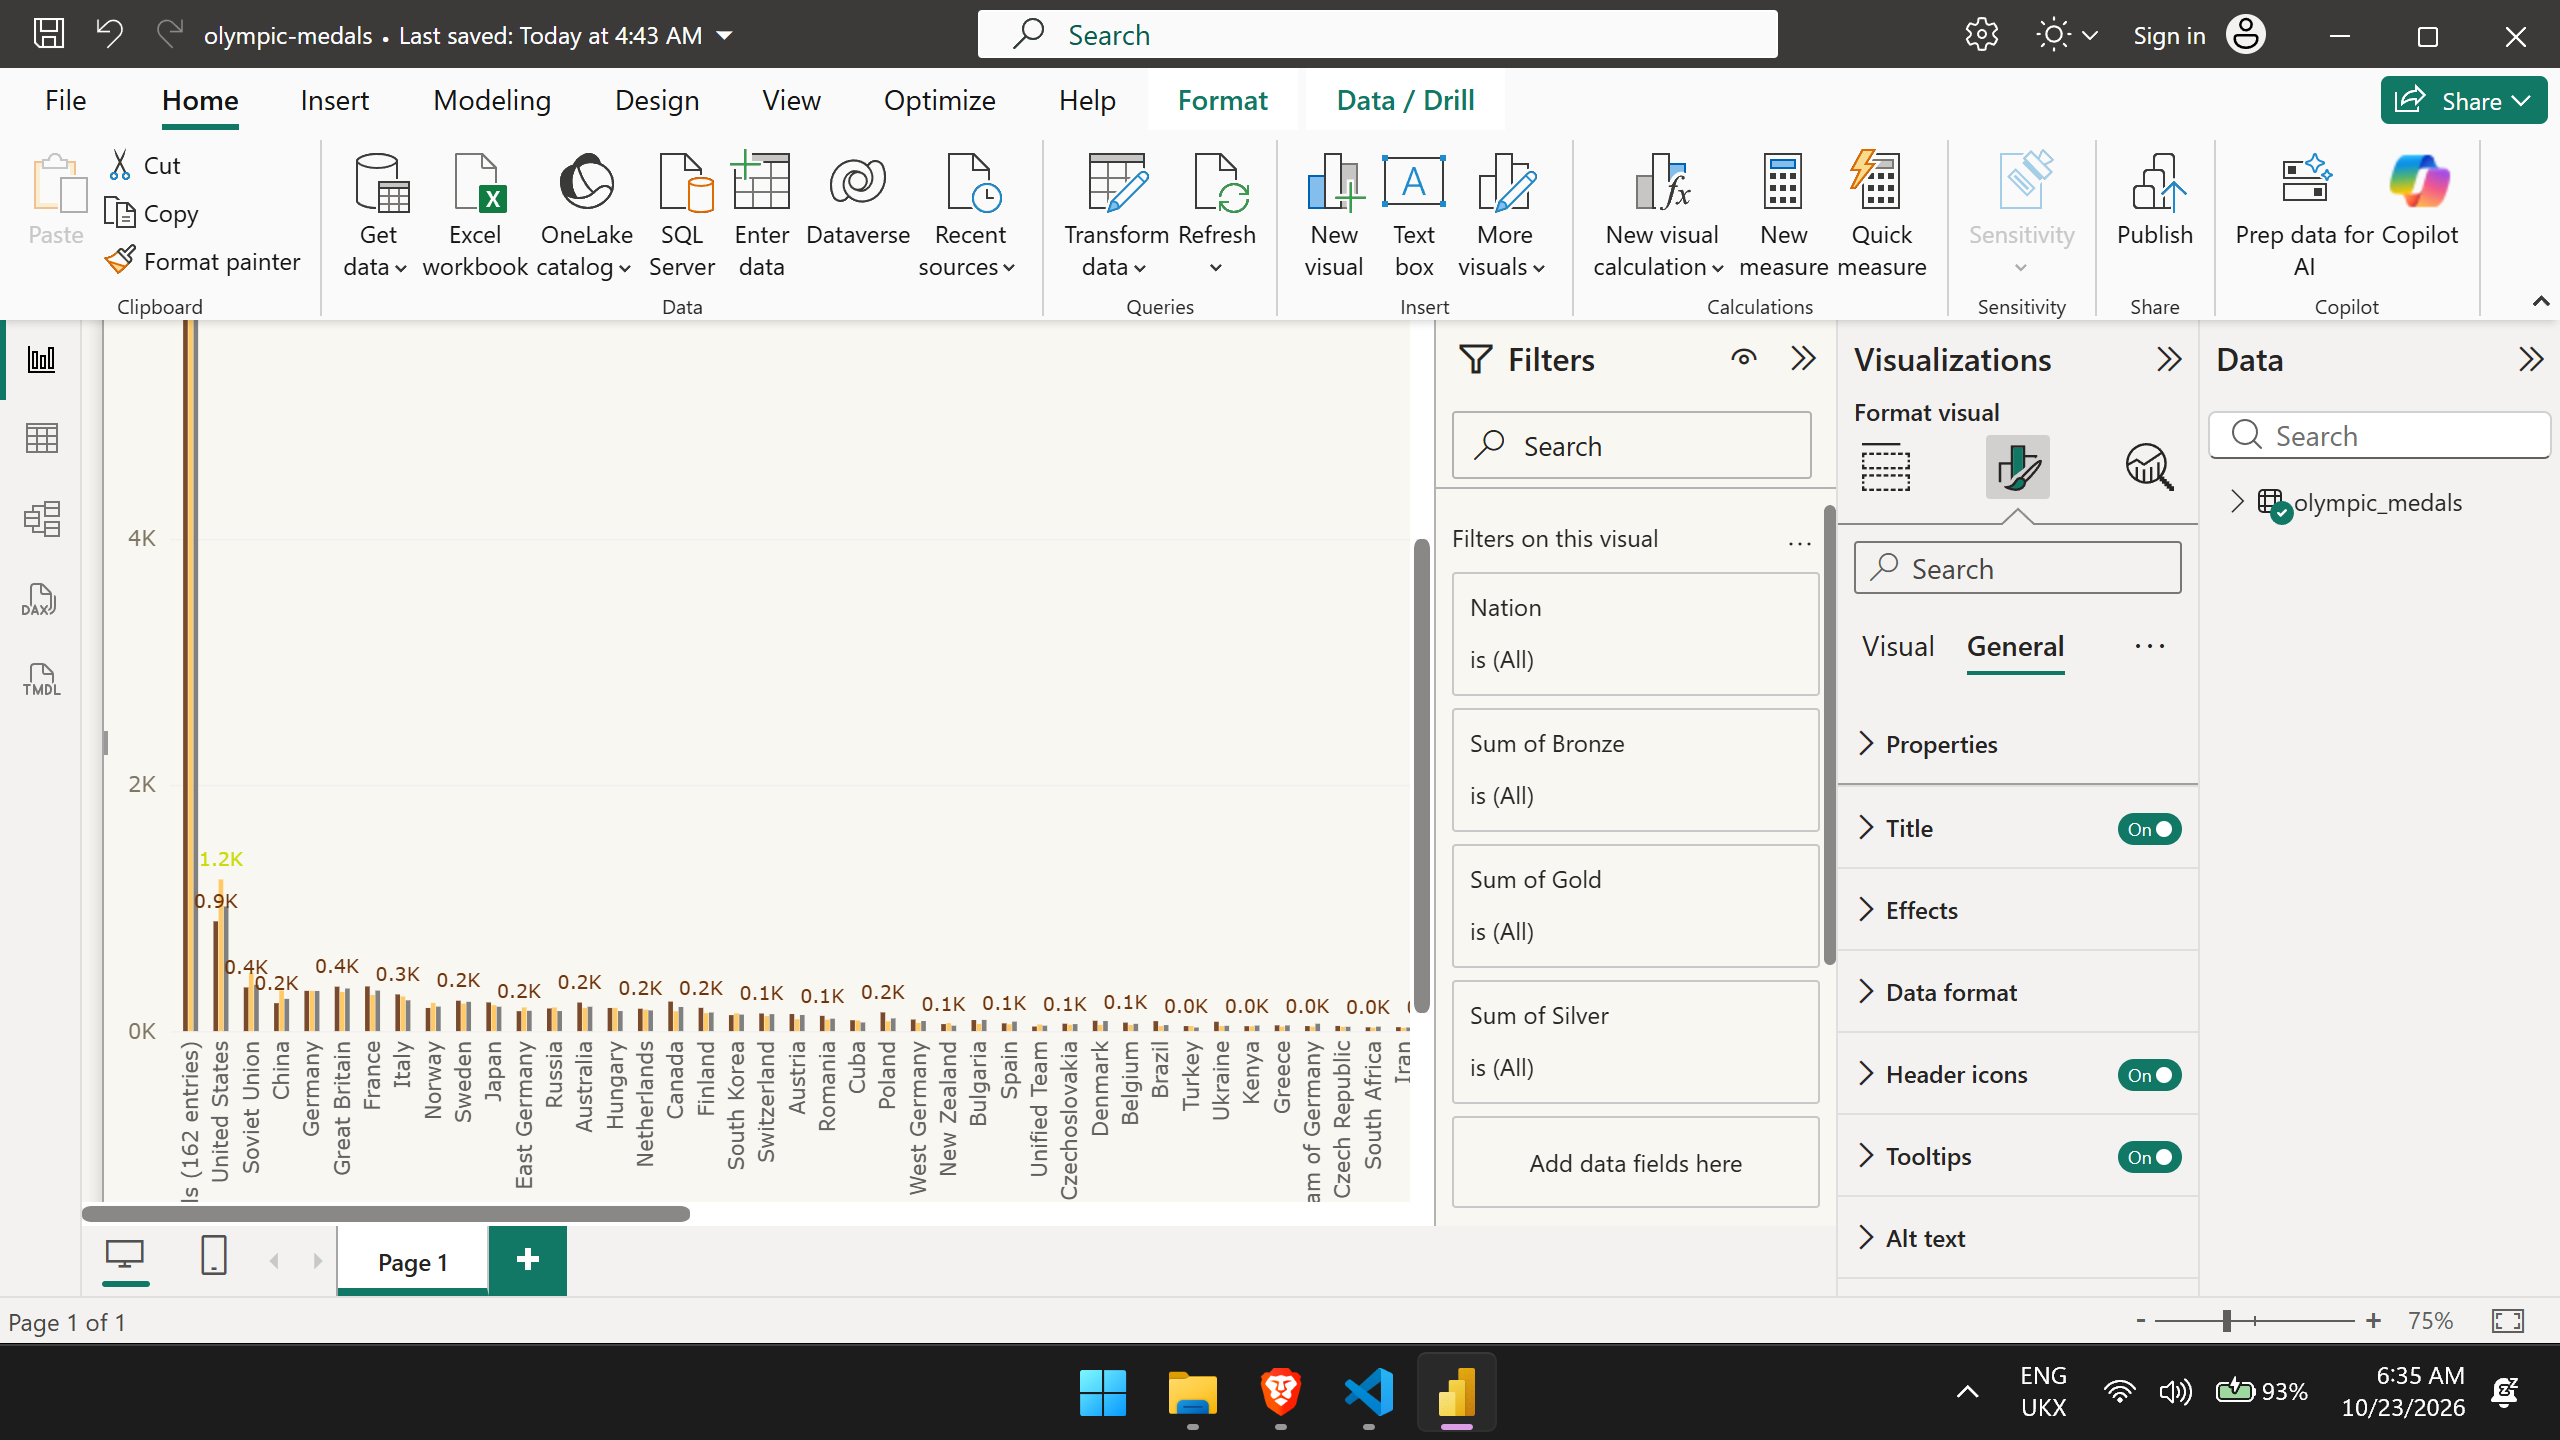

What the dashboard file says about the page in this screenshot:
{"tool":"powerbi","page":{"name":"Page 1","canvas":[1920,1080],"ordinal":0},"visuals":[{"type":"clusteredColumnChart","title":"All-Time Olympic Medal Count by Nation","fields":{"Category":["olympic_medals.Nation"],"Y":["Sum(olympic_medals.Bronze)","Sum(olympic_medals.Gold)","Sum(olympic_medals.Silver)"]},"box":[0,10,1908.6,1059.4],"z":0}]}

Visuals, with their boxes on the page's 1920x1080 design canvas (x1, y1, x2, y2). These are canvas units, not pixel positions in the 2560x1440 screenshot, which may show the page scaled, cropped or inside an application window:
"All-Time Olympic Medal Count by Nation" clusteredColumnChart: (left=0, top=10, right=1909, bottom=1069)
